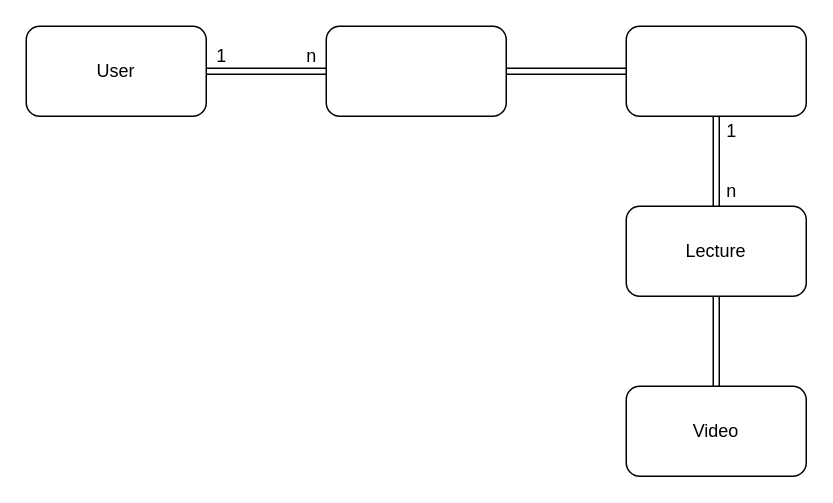
Some shapes in this 833 by 503 pixel diagram are drawn without their labels. Here are the shapes that lost their labels. From the top down, the centre of each, then its label:
(415,70): Enrollment
(715,70): Course
